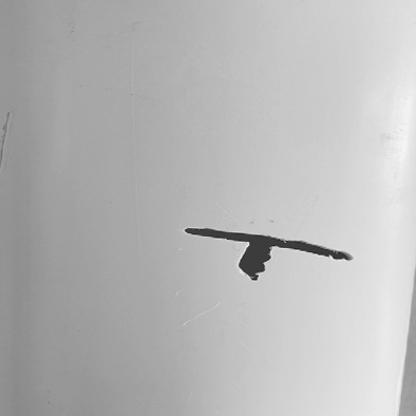fengxi: (185, 226, 354, 263)
kongdong: (238, 242, 277, 283)
